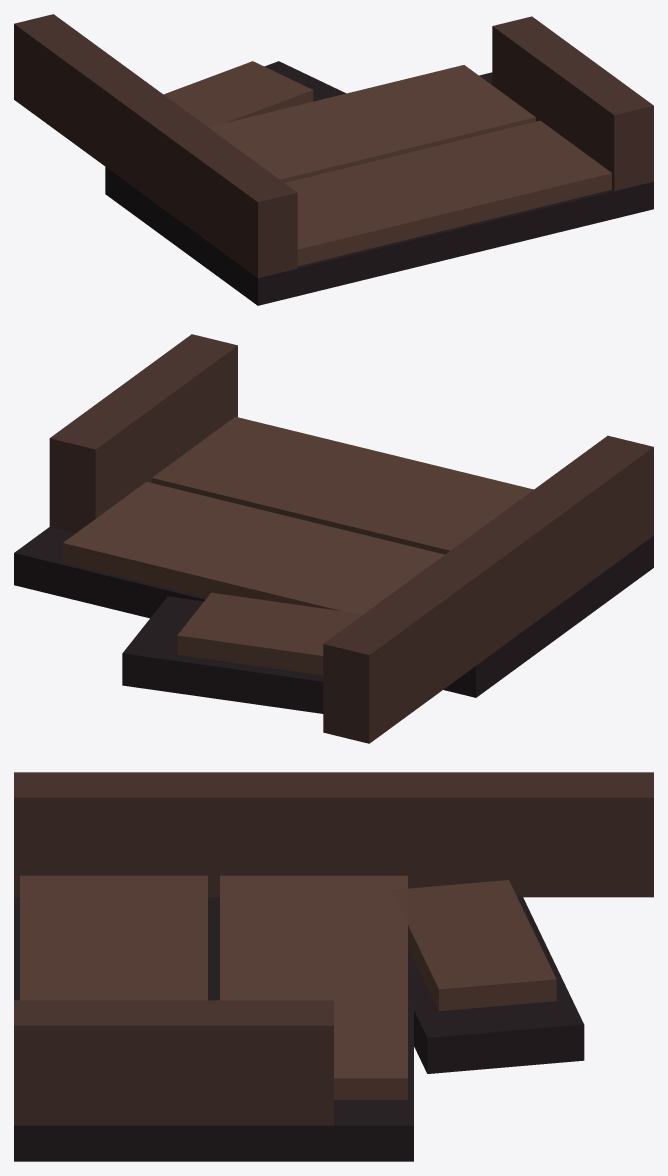
The model's file is bridge_broken_4m.glb.
The picture shows the model from 3 angles, top to bottom: view 1: azimuth 30°, elevation 25°; view 2: azimuth 150°, elevation 25°; view 3: azimuth 270°, elevation 25°; orthographic projection. The views are drawn at different scales.
Parts seen in each view (by area): view 1: bridge_broken_4m; view 2: bridge_broken_4m; view 3: bridge_broken_4m.
Boxes of the visible parts, x1=… form: bridge_broken_4m: x1=14, y1=14, x2=653, y2=305; bridge_broken_4m: x1=14, y1=334, x2=653, y2=743; bridge_broken_4m: x1=14, y1=772, x2=653, y2=1161.
Size of the model in its own units: 3 by 0.75 by 3.2.
